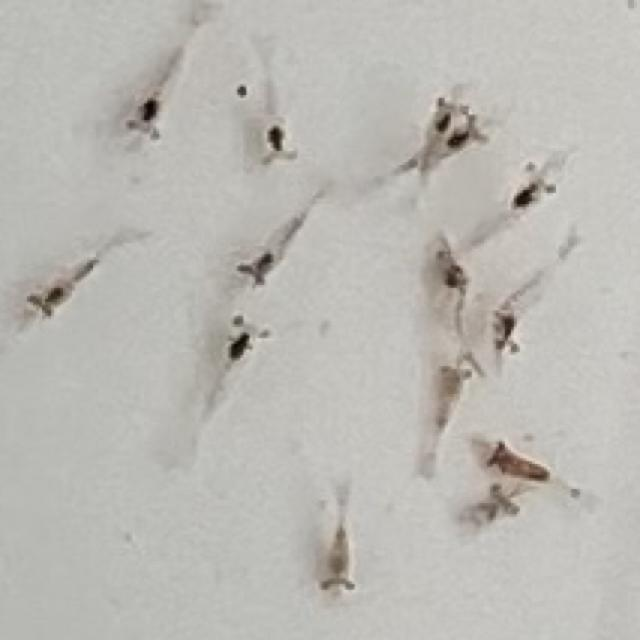shrimp-seed: (28, 260, 98, 320), (480, 436, 554, 483), (316, 524, 362, 594), (427, 235, 471, 302), (220, 314, 278, 364), (428, 368, 474, 428), (511, 161, 559, 211), (124, 94, 170, 146), (476, 483, 524, 528), (258, 118, 300, 168), (422, 96, 469, 138), (492, 300, 522, 358), (234, 251, 278, 289), (448, 117, 492, 155)
